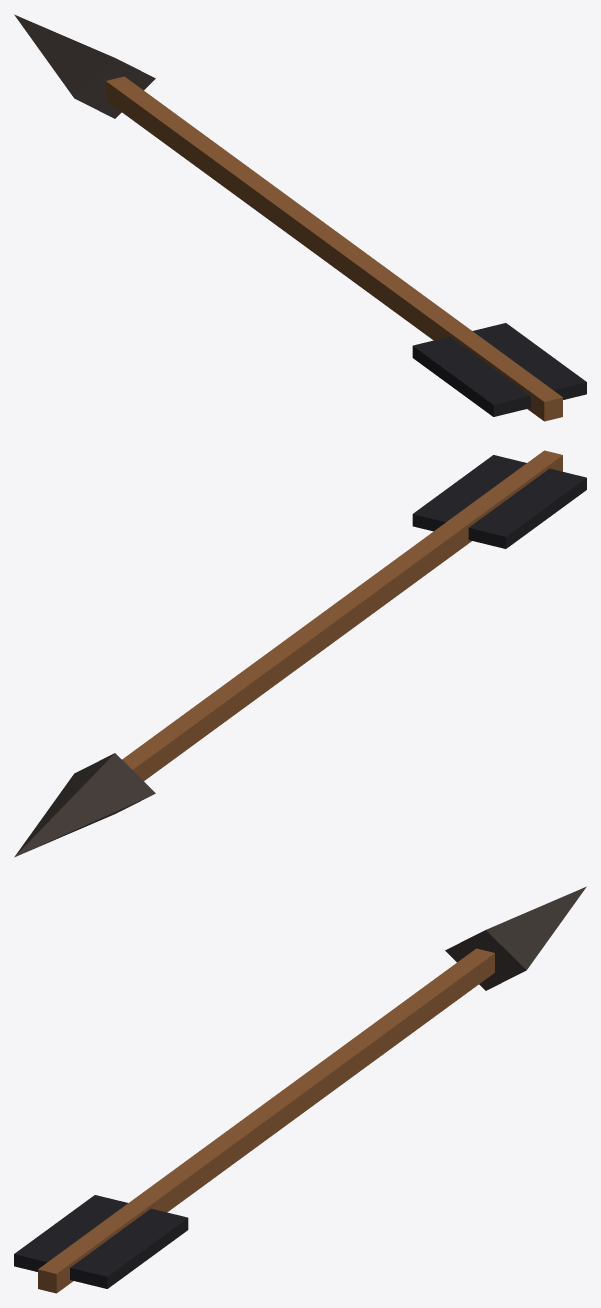
Rendered from hunter_arrow.glb.
3 renders of one model, top to bottom at view 1: azimuth 30°, elevation 25°; view 2: azimuth 150°, elevation 25°; view 3: azimuth 330°, elevation 25°, orthographic.
Visible parts, largest first — view 1: ArrowShaft, ArrowFletch, ArrowTip; view 2: ArrowShaft, ArrowFletch, ArrowTip; view 3: ArrowShaft, ArrowFletch, ArrowTip.
Part boxes in pixels (bbox=[...]): ArrowShaft: bbox=[106, 76, 562, 421]; ArrowFletch: bbox=[412, 323, 586, 416]; ArrowTip: bbox=[14, 14, 155, 118]; ArrowShaft: bbox=[122, 450, 562, 780]; ArrowFletch: bbox=[412, 455, 586, 548]; ArrowTip: bbox=[14, 753, 155, 857]; ArrowShaft: bbox=[38, 948, 494, 1293]; ArrowFletch: bbox=[14, 1195, 188, 1288]; ArrowTip: bbox=[445, 886, 586, 990].
Bounding box in the file's own units: 0.08 × 0.05 × 0.8.
